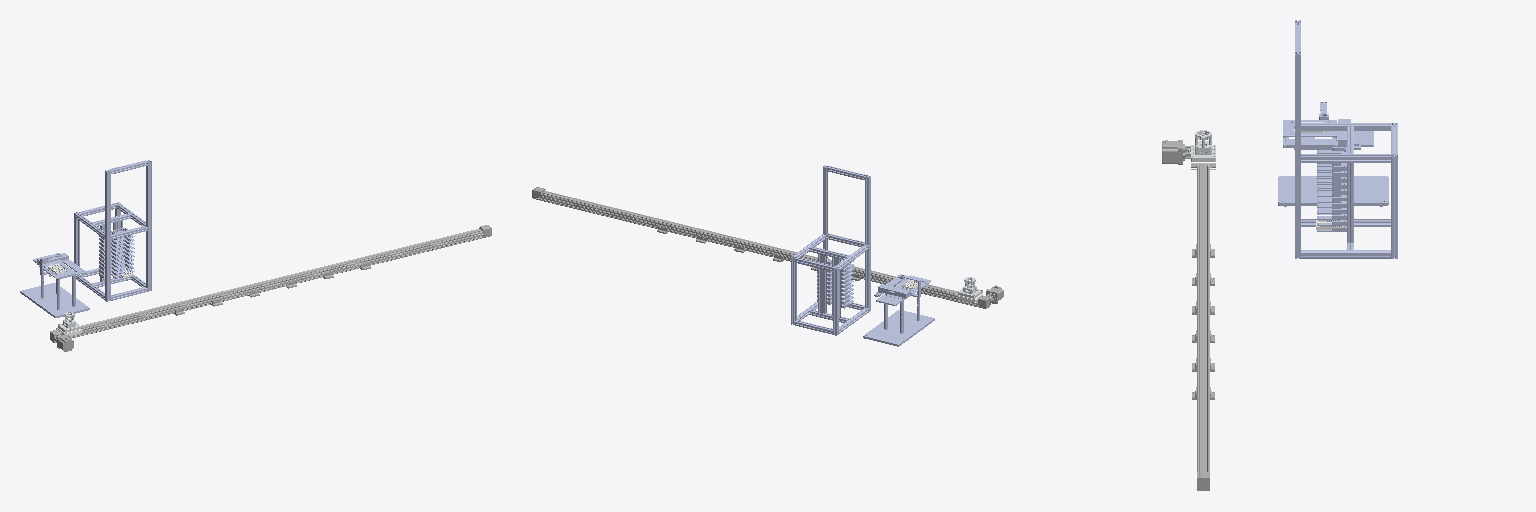
The robot description file, URDF, robot "Digital_twin_lab-3":
<?xml version="1.0" encoding="utf-8"?>
<!-- This URDF was automatically created by SolidWorks to URDF Exporter! Originally created by [author] ([email redacted]) 
     Commit Version: 1.6.0-4-g7f85cfe  Build Version: 1.6.7995.38578
     For more information, please see http://wiki.ros.org/sw_urdf_exporter -->
<robot
  name="Digital_twin_lab-3">
  <link
    name="base_link">
    <inertial>
      <origin
        xyz="1.78900440586769 -0.881080760642453 -0.1165449489918"
        rpy="0 0 0" />
      <mass
        value="199.608158242893" />
      <inertia
        ixx="10.5666582157859"
        ixy="1.27793031995562E-10"
        ixz="2.82196989777788E-10"
        iyy="42.9924156247687"
        iyz="5.91605791574804E-11"
        izz="52.3672725427771" />
    </inertial>
    <visual>
      <origin
        xyz="0 0 0"
        rpy="0 0 0" />
      <geometry>
        <mesh
          filename="package://Digital_twin_lab-3/meshes/base_link.STL" />
      </geometry>
      <material
        name="">
        <color
          rgba="0.752941176470588 0.752941176470588 0.752941176470588 1" />
      </material>
    </visual>
    <collision>
      <origin
        xyz="0 0 0"
        rpy="0 0 0" />
      <geometry>
        <mesh
          filename="package://Digital_twin_lab-3/meshes/base_link.STL" />
      </geometry>
    </collision>
  </link>
  <link
    name="slide-rail">
    <inertial>
      <origin
        xyz="-1.43995243789554 -0.866665161394356 -0.200928921167978"
        rpy="0 0 0" />
      <mass
        value="9.10141973800343" />
      <inertia
        ixx="0.00462584403154433"
        ixy="-2.47766910593198E-07"
        ixz="2.22783567848517E-08"
        iyy="7.2200527077908"
        iyz="6.58677957713716E-06"
        izz="7.22100259175683" />
    </inertial>
    <visual>
      <origin
        xyz="0 0 0"
        rpy="0 0 0" />
      <geometry>
        <mesh
          filename="package://Digital_twin_lab-3/meshes/slide-rail.STL" />
      </geometry>
      <material
        name="">
        <color
          rgba="0.752941176470588 0.752941176470588 0.752941176470588 1" />
      </material>
    </visual>
    <collision>
      <origin
        xyz="0 0 0"
        rpy="0 0 0" />
      <geometry>
        <mesh
          filename="package://Digital_twin_lab-3/meshes/slide-rail.STL" />
      </geometry>
    </collision>
  </link>
  <joint
    name="slide-rail-j"
    type="fixed">
    <origin
      xyz="3.08771486040588 -0.0803389725836143 0.244946823793314"
      rpy="0 0 0" />
    <parent
      link="base_link" />
    <child
      link="slide-rail" />
    <axis
      xyz="0 0 0" />
  </joint>
  <link
    name="slide">
    <inertial>
      <origin
        xyz="0.0726026016397733 0.00430886913851669 0.0405868162079005"
        rpy="0 0 0" />
      <mass
        value="0.419983323514115" />
      <inertia
        ixx="0.000608866562581119"
        ixy="2.96122492561252E-10"
        ixz="1.1348537052061E-09"
        iyy="0.000510747138587582"
        iyz="-1.16613327497699E-06"
        izz="0.00103925065608287" />
    </inertial>
    <visual>
      <origin
        xyz="0 0 0"
        rpy="0 0 0" />
      <geometry>
        <mesh
          filename="package://Digital_twin_lab-3/meshes/slide.STL" />
      </geometry>
      <material
        name="">
        <color
          rgba="1 1 1 1" />
      </material>
    </visual>
    <collision>
      <origin
        xyz="0 0 0"
        rpy="0 0 0" />
      <geometry>
        <mesh
          filename="package://Digital_twin_lab-3/meshes/slide.STL" />
      </geometry>
    </collision>
  </link>
  <joint
    name="slide-j"
    type="prismatic">
    <origin
      xyz="0.081634 -0.94164 0.033447"
      rpy="0 0 0" />
    <parent
      link="base_link" />
    <child
      link="slide" />
    <axis
      xyz="-1 0 0" />
    <limit
      lower="-3.5"
      upper="0"
      effort="0"
      velocity="0" />
  </joint>
  <link
    name="arm-base">
    <inertial>
      <origin
        xyz="0.00020537 -0.00024396 0.021392"
        rpy="0 0 0" />
      <mass
        value="0.72268" />
      <inertia
        ixx="0.00075751"
        ixy="1.7307E-06"
        ixz="3.1349E-07"
        iyy="0.0010077"
        iyz="-3.2751E-07"
        izz="0.0017096" />
    </inertial>
    <visual>
      <origin
        xyz="0 0 0"
        rpy="0 0 0" />
      <geometry>
        <mesh
          filename="package://Digital_twin_lab-3/meshes/arm-base.STL" />
      </geometry>
      <material
        name="">
        <color
          rgba="0.89804 0.91765 0.92941 1" />
      </material>
    </visual>
    <collision>
      <origin
        xyz="0 0 0"
        rpy="0 0 0" />
      <geometry>
        <mesh
          filename="package://Digital_twin_lab-3/meshes/arm-base.STL" />
      </geometry>
    </collision>
  </link>
  <joint
    name="arm-base-j"
    type="fixed">
    <origin
      xyz="0.0725270285681471 0.00413959636703953 0.0557629137973782"
      rpy="0 0 0" />
    <parent
      link="slide" />
    <child
      link="arm-base" />
    <axis
      xyz="0 0 0" />
  </joint>
  <link
    name="squid">
    <inertial>
      <origin
        xyz="-0.00217519723344878 -0.0152297106388054 0.107745951384963"
        rpy="0 0 0" />
      <mass
        value="3.63619504672605" />
      <inertia
        ixx="0.0528314659485866"
        ixy="0.000282892683176604"
        ixz="3.98656771778672E-06"
        iyy="0.0195251698514204"
        iyz="6.618724619776E-07"
        izz="0.0673167761503225" />
    </inertial>
    <visual>
      <origin
        xyz="0 0 0"
        rpy="0 0 0" />
      <geometry>
        <mesh
          filename="package://Digital_twin_lab-3/meshes/squid.STL" />
      </geometry>
      <material
        name="">
        <color
          rgba="0.792156862745098 0.819607843137255 0.933333333333333 1" />
      </material>
    </visual>
    <collision>
      <origin
        xyz="0 0 0"
        rpy="0 0 0" />
      <geometry>
        <mesh
          filename="package://Digital_twin_lab-3/meshes/squid.STL" />
      </geometry>
    </collision>
  </link>
  <joint
    name="squid-j"
    type="fixed">
    <origin
      xyz="0.37264 -0.35916 0.0092903"
      rpy="0 0 0" />
    <parent
      link="base_link" />
    <child
      link="squid" />
    <axis
      xyz="0 0 0" />
  </joint>
  <link
    name="incubator">
    <inertial>
      <origin
        xyz="0.14857 0.18235 0.29938"
        rpy="0 0 0" />
      <mass
        value="4.1514" />
      <inertia
        ixx="0.041296"
        ixy="-2.879E-05"
        ixz="-2.2835E-06"
        iyy="0.039297"
        iyz="-9.7481E-05"
        izz="0.017513" />
    </inertial>
    <visual>
      <origin
        xyz="0 0 0"
        rpy="0 0 0" />
      <geometry>
        <mesh
          filename="package://Digital_twin_lab-3/meshes/incubator.STL" />
      </geometry>
      <material
        name="">
        <color
          rgba="0.79216 0.81961 0.93333 1" />
      </material>
    </visual>
    <collision>
      <origin
        xyz="0 0 0"
        rpy="0 0 0" />
      <geometry>
        <mesh
          filename="package://Digital_twin_lab-3/meshes/incubator.STL" />
      </geometry>
    </collision>
  </link>
  <joint
    name="incubator-j"
    type="fixed">
    <origin
      xyz="0.72099 -0.51752 0.016115"
      rpy="0 0 0" />
    <parent
      link="base_link" />
    <child
      link="incubator" />
    <axis
      xyz="0 0 0" />
  </joint>
  <link
    name="1">
    <inertial>
      <origin
        xyz="4.59589526852766E-05 7.05328323838961E-05 0.00753805993131679"
        rpy="0 0 0" />
      <mass
        value="0.0868244944825263" />
      <inertia
        ixx="0.000126271352614738"
        ixy="2.40742980191021E-07"
        ixz="-8.29625367426574E-09"
        iyy="5.64144498466679E-05"
        iyz="-1.27388068981687E-08"
        izz="0.000180549328693109" />
    </inertial>
    <visual>
      <origin
        xyz="0 0 0"
        rpy="0 0 0" />
      <geometry>
        <mesh
          filename="package://Digital_twin_lab-3/meshes/1.STL" />
      </geometry>
      <material
        name="">
        <color
          rgba="1 1 1 1" />
      </material>
    </visual>
    <collision>
      <origin
        xyz="0 0 0"
        rpy="0 0 0" />
      <geometry>
        <mesh
          filename="package://Digital_twin_lab-3/meshes/1.STL" />
      </geometry>
    </collision>
  </link>
  <joint
    name="1j"
    type="fixed">
    <origin
      xyz="0.33093 -0.46212 0.30199"
      rpy="0 0 0" />
    <parent
      link="base_link" />
    <child
      link="1" />
    <axis
      xyz="0 0 0" />
  </joint>
  <link
    name="2">
    <inertial>
      <origin
        xyz="4.59589526853321E-05 7.0532832383785E-05 0.00753805993131677"
        rpy="0 0 0" />
      <mass
        value="0.0868244944825264" />
      <inertia
        ixx="0.000126271352614737"
        ixy="2.40742980190993E-07"
        ixz="-8.29625367428775E-09"
        iyy="5.64144498466676E-05"
        iyz="-1.2738806898164E-08"
        izz="0.000180549328693109" />
    </inertial>
    <visual>
      <origin
        xyz="0 0 0"
        rpy="0 0 0" />
      <geometry>
        <mesh
          filename="package://Digital_twin_lab-3/meshes/2.STL" />
      </geometry>
      <material
        name="">
        <color
          rgba="1 1 1 1" />
      </material>
    </visual>
    <collision>
      <origin
        xyz="0 0 0"
        rpy="0 0 0" />
      <geometry>
        <mesh
          filename="package://Digital_twin_lab-3/meshes/2.STL" />
      </geometry>
    </collision>
  </link>
  <joint
    name="2j"
    type="fixed">
    <origin
      xyz="0.81307 -0.37503 0.10027"
      rpy="0 0 0" />
    <parent
      link="base_link" />
    <child
      link="2" />
    <axis
      xyz="0 0 0" />
  </joint>
  <link
    name="3">
    <inertial>
      <origin
        xyz="0 0 0"
        rpy="0 0 0" />
      <mass
        value="0" />
      <inertia
        ixx="0"
        ixy="0"
        ixz="0"
        iyy="0"
        iyz="0"
        izz="0" />
    </inertial>
    <visual>
      <origin
        xyz="0 0 0"
        rpy="0 0 0" />
      <geometry>
        <mesh
          filename="package://Digital_twin_lab-3/meshes/3.STL" />
      </geometry>
      <material
        name="">
        <color
          rgba="1 1 1 1" />
      </material>
    </visual>
    <collision>
      <origin
        xyz="0 0 0"
        rpy="0 0 0" />
      <geometry>
        <mesh
          filename="package://Digital_twin_lab-3/meshes/3.STL" />
      </geometry>
    </collision>
  </link>
  <joint
    name="3j"
    type="fixed">
    <origin
      xyz="0.922439977066649 -0.375034358450601 0.100266923263157"
      rpy="0 0 0" />
    <parent
      link="base_link" />
    <child
      link="3" />
    <axis
      xyz="0 0 0" />
  </joint>
</robot>

--- What the picture shows (computed from the rendered views, not written in the file) ---
The picture shows the robot from 3 angles, left to right: view 1: azimuth 30°, elevation 25°; view 2: azimuth 150°, elevation 25°; view 3: azimuth 270°, elevation 25°; orthographic projection.
Model Digital_twin_lab-3 with 9 links and 8 joints (1 prismatic, 7 fixed), rooted at base_link, posed every joint at zero.
Links seen in each view (by area): view 1: incubator, slide-rail, squid; view 2: incubator, slide-rail, squid; view 3: incubator, slide-rail, squid, arm-base.
Boxes of the visible links, x1,y1,x2,y2 form: incubator: [74, 160, 151, 301]; slide-rail: [50, 225, 491, 351]; squid: [20, 253, 89, 317]; incubator: [791, 165, 870, 335]; slide-rail: [532, 187, 1003, 308]; squid: [863, 274, 934, 346]; incubator: [1295, 20, 1397, 258]; slide-rail: [1162, 140, 1214, 490]; squid: [1278, 102, 1388, 206]; arm-base: [1191, 130, 1215, 161].
Bounding box of the posed robot: 3.54 × 1.05 × 1 m (x, y, z).
Meshes: 9 distinct files referenced, 7 mesh visuals loaded (7 binary STL); not drawn: 2 (reference not matched to a file when rendering).